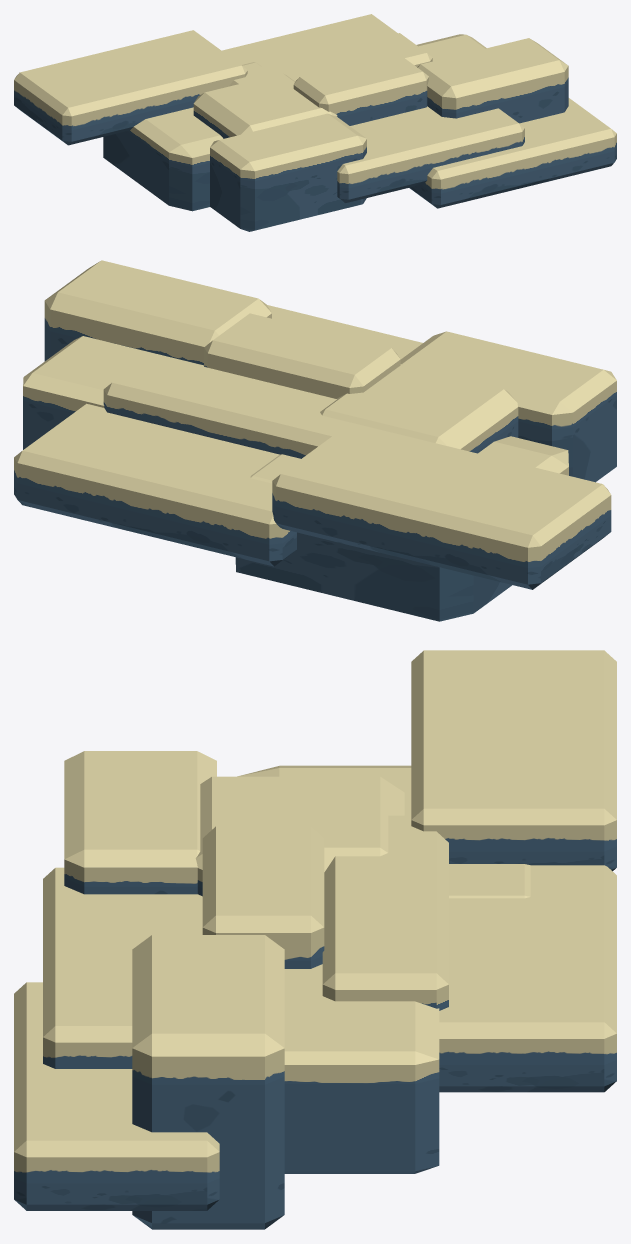
Rendered from M_modul_02_env.fbx.
3 views of the same model, one above another, from view 1: azimuth 30°, elevation 25°; view 2: azimuth 150°, elevation 25°; view 3: azimuth 270°, elevation 25° (orthographic). The views are drawn at different scales.
Visible parts, largest first — view 1: Cube.008, Cube.003, Cube.007, Cube.011, Cube.006, Cube.005, Cube.010, Cube.009, Cube.004, Cube.014, Cube.002; view 2: Cube.008, Cube.004, Cube.014, Cube.003, Cube.006, Cube.005, Cube.009, Cube.010, Cube.002, Cube.007; view 3: Cube.008, Cube.006, Cube.004, Cube.002, Cube.011, Cube.014, Cube.003, Cube.007, Cube.010, Cube.009, Cube.005.
Boxes of the visible parts, bbox=[...] form: Cube.008: bbox=[14, 30, 247, 145]; Cube.003: bbox=[210, 113, 366, 231]; Cube.007: bbox=[337, 106, 524, 203]; Cube.011: bbox=[409, 98, 616, 208]; Cube.006: bbox=[417, 38, 568, 123]; Cube.005: bbox=[103, 62, 261, 211]; Cube.010: bbox=[293, 53, 428, 125]; Cube.009: bbox=[193, 73, 337, 138]; Cube.004: bbox=[222, 14, 397, 66]; Cube.014: bbox=[229, 33, 432, 86]; Cube.002: bbox=[417, 34, 486, 61]; Cube.008: bbox=[272, 422, 611, 589]; Cube.004: bbox=[14, 403, 296, 566]; Cube.014: bbox=[103, 354, 350, 458]; Cube.003: bbox=[400, 331, 616, 482]; Cube.006: bbox=[44, 260, 271, 365]; Cube.005: bbox=[235, 436, 568, 621]; Cube.009: bbox=[320, 364, 518, 453]; Cube.010: bbox=[204, 313, 400, 398]; Cube.002: bbox=[23, 336, 203, 449]; Cube.007: bbox=[267, 305, 422, 359]; Cube.008: bbox=[411, 650, 616, 871]; Cube.006: bbox=[132, 935, 284, 1229]; Cube.004: bbox=[439, 865, 616, 1092]; Cube.002: bbox=[284, 964, 439, 1173]; Cube.011: bbox=[14, 982, 219, 1210]; Cube.014: bbox=[322, 815, 448, 1010]; Cube.003: bbox=[64, 751, 216, 894]; Cube.007: bbox=[43, 867, 202, 1068]; Cube.010: bbox=[202, 826, 324, 968]; Cube.009: bbox=[195, 776, 404, 896]; Cube.005: bbox=[237, 765, 530, 898].
Size of the model in its own units: 50.15 by 11.76 by 31.29.
